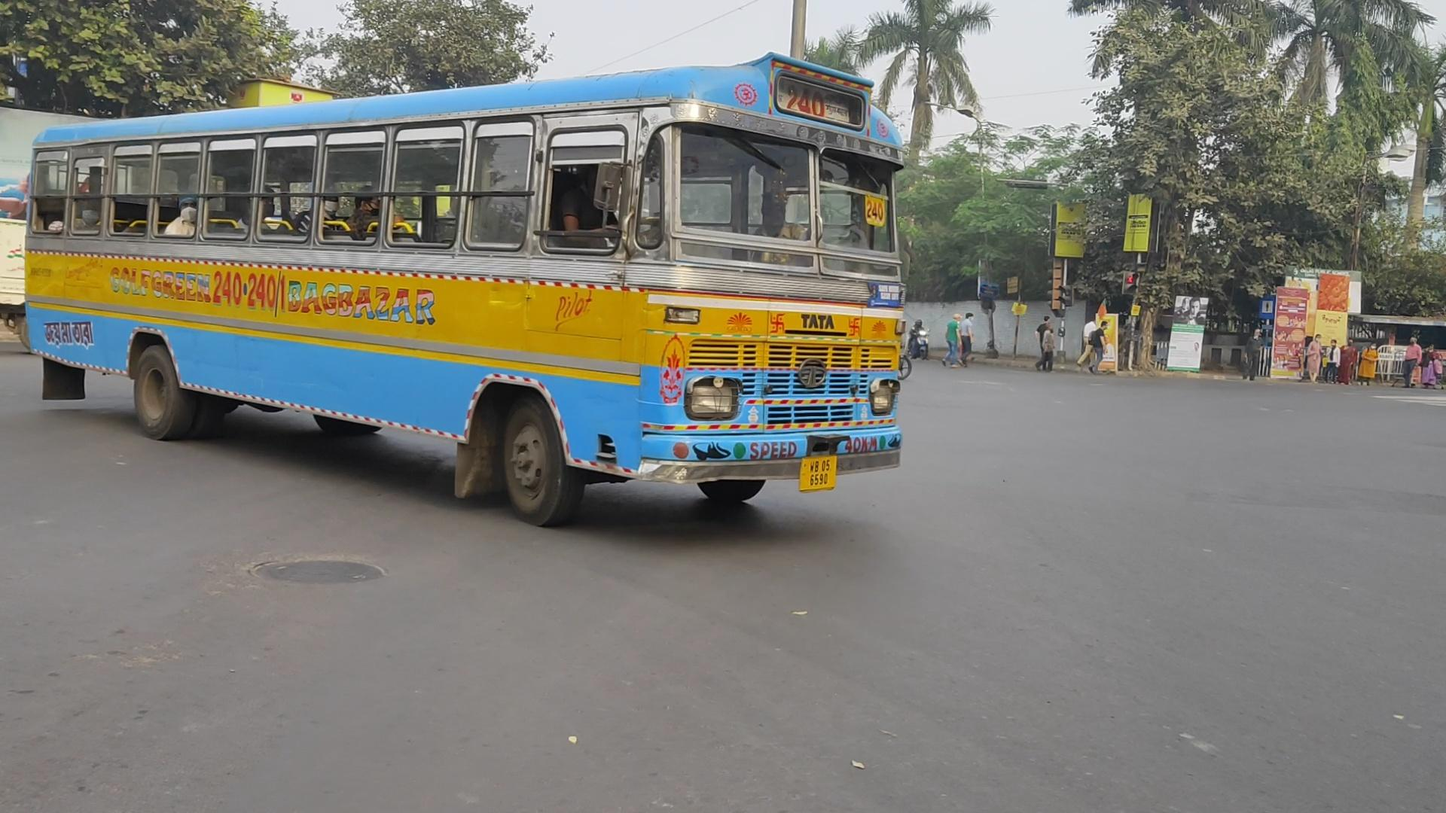Bus: (24, 51, 908, 527)
bike: (908, 319, 931, 360)
